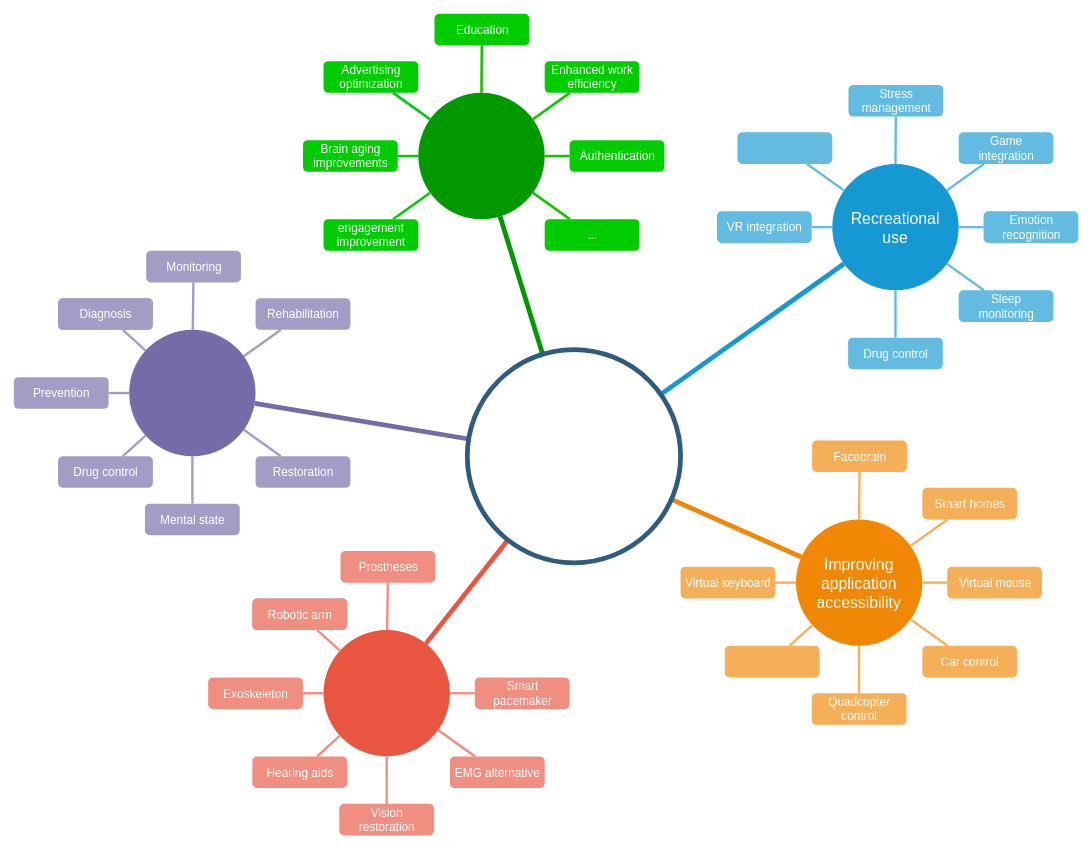
This 1092x848 diagram has some shape labels left out. The shapes that lost their labels are listed below. From the top down, each one's centre as x and y in pixels, then its label:
At pixel 481 155: "Many others".
At pixel 784 148: "Yoga aid".
At pixel 192 392: "Automated tool for medical phenomena".
At pixel 574 456: "Most common use cases for BCIs".
At pixel 771 661: "Multimedia control".
At pixel 386 693: "Robotic body parts".
